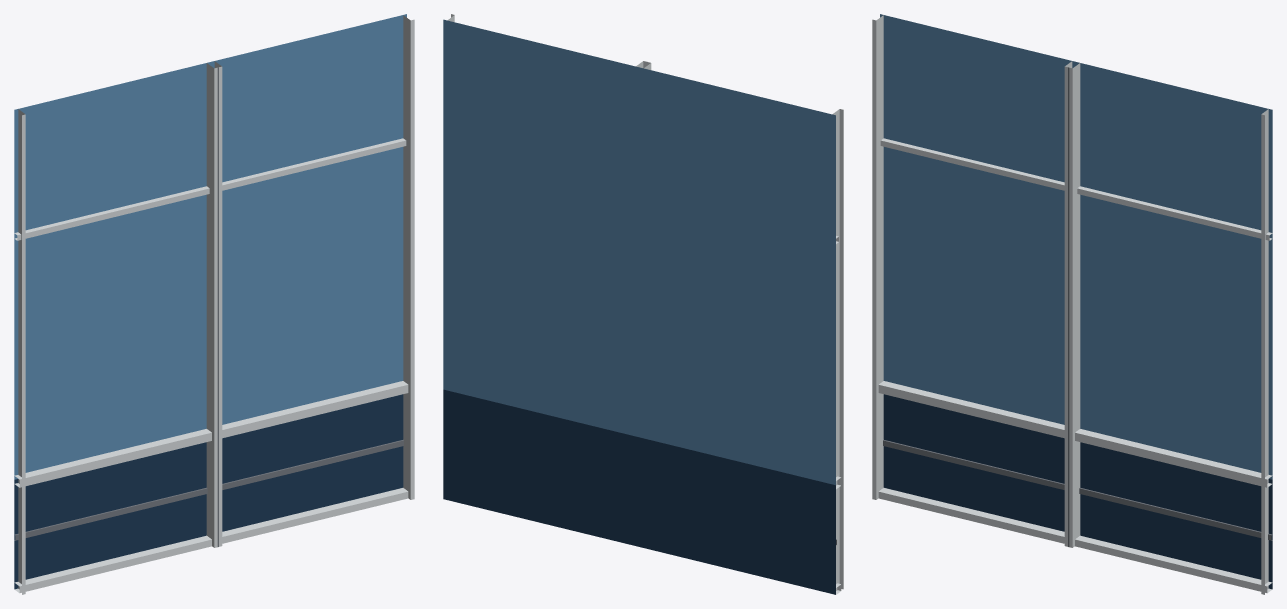
The model's file is mid-w1_close.fbx.
3 renders of one model, left to right at view 1: azimuth 30°, elevation 25°; view 2: azimuth 150°, elevation 25°; view 3: azimuth 330°, elevation 25°, orthographic.
Visible parts, largest first — view 1: a2002/200/mid-w1_close; view 2: a2002/200/mid-w1_close; view 3: a2002/200/mid-w1_close.
Part boxes in pixels (left/top/right/bottom): a2002/200/mid-w1_close: left=14, top=14, right=414, bottom=594; a2002/200/mid-w1_close: left=443, top=14, right=843, bottom=594; a2002/200/mid-w1_close: left=872, top=14, right=1272, bottom=594.
Bounding box in the file's own units: 3 × 3.5 × 0.101.
